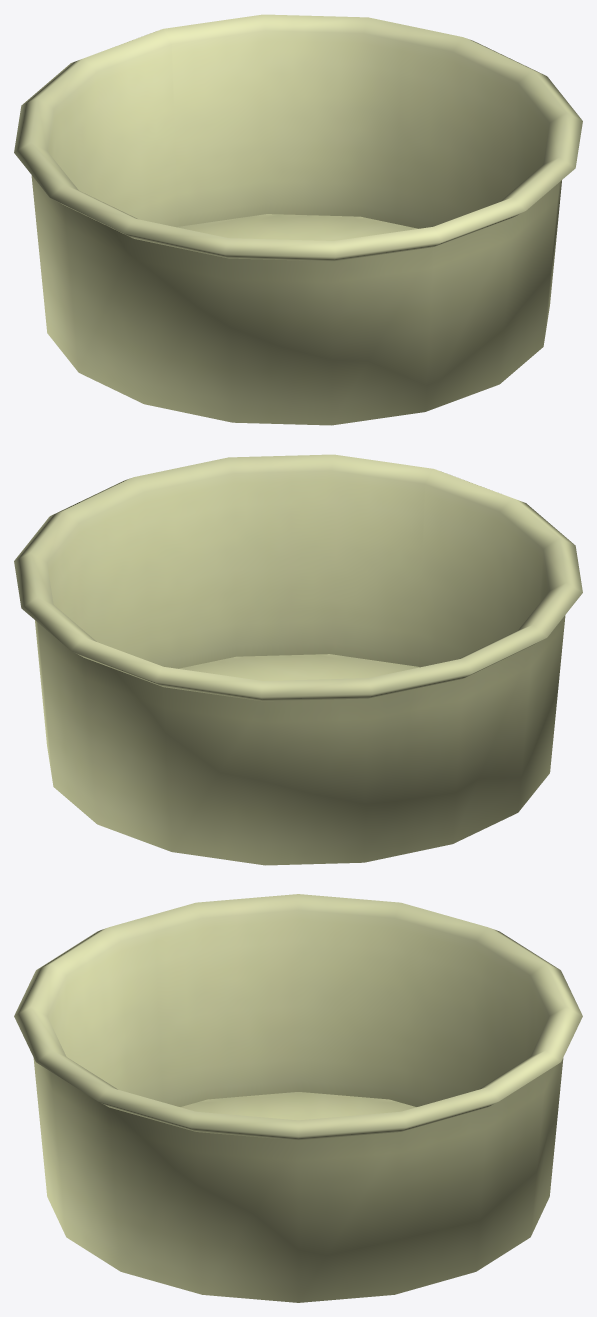
Rendered from KR_Plastic_tub_01_02.fbx.
3 renders of one model, top to bottom at view 1: azimuth 30°, elevation 25°; view 2: azimuth 150°, elevation 25°; view 3: azimuth 270°, elevation 25°, orthographic.
Parts seen in each view (by area): view 1: kr_plastic_tub_01_02; view 2: kr_plastic_tub_01_02; view 3: kr_plastic_tub_01_02.
Boxes of the visible parts, x1,y1,x2,y2 form: kr_plastic_tub_01_02: (14, 14, 582, 425); kr_plastic_tub_01_02: (14, 454, 582, 865); kr_plastic_tub_01_02: (14, 894, 582, 1302).
Size of the model in its own units: 34 by 13 by 34.
